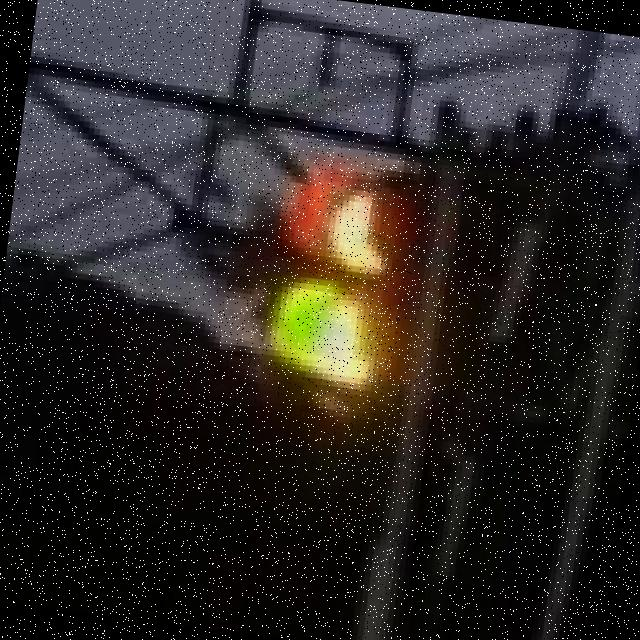Zolte swiatlo: (255, 165, 440, 518)
